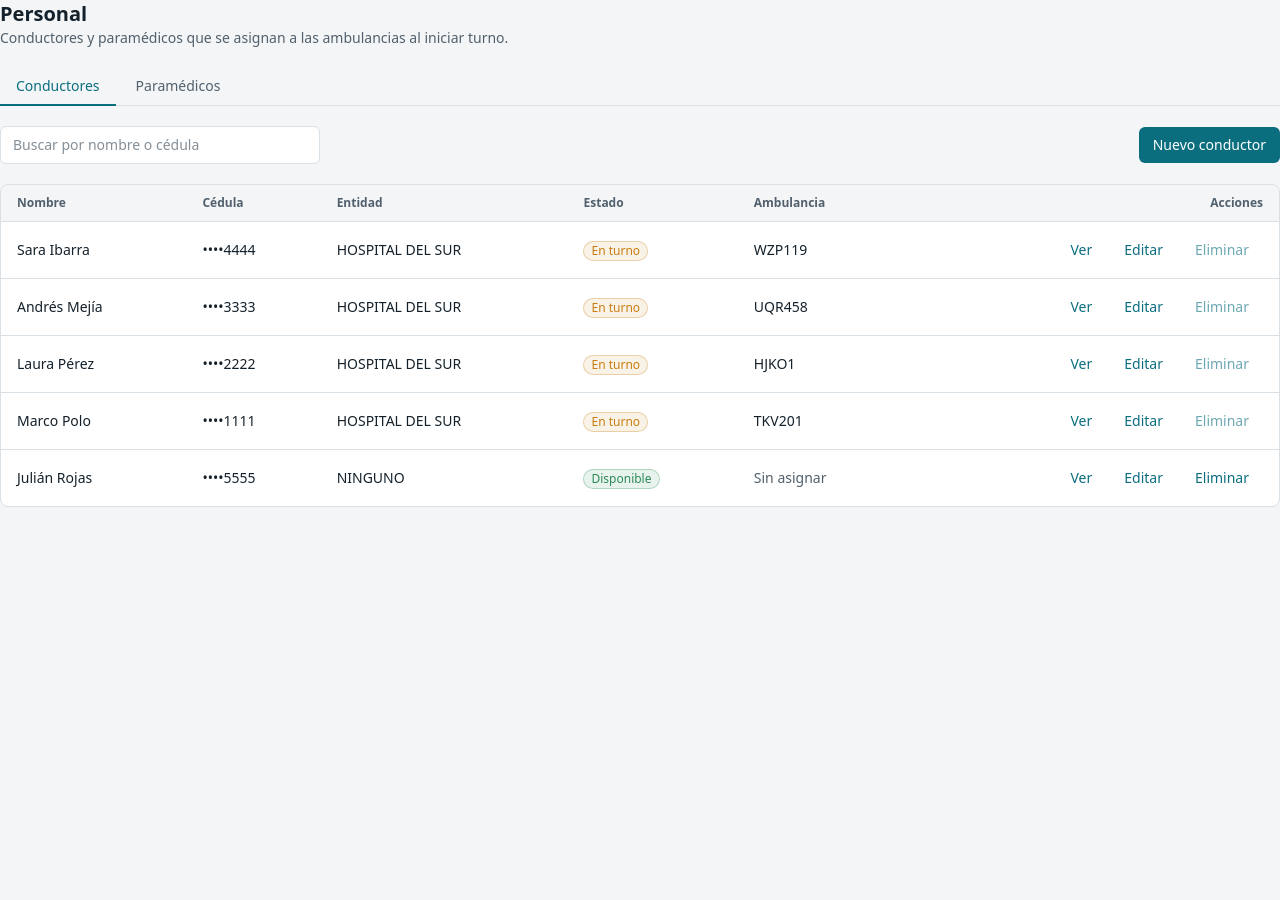
Scenario: StaffPage · conductores › editar no cambia el estado ni la ambulancia
This screenshot has width=1280, height=900.
Click the button with aria-label "Editar Marco Polo".
click(1144, 421)  # box [1110,403,1177,439]
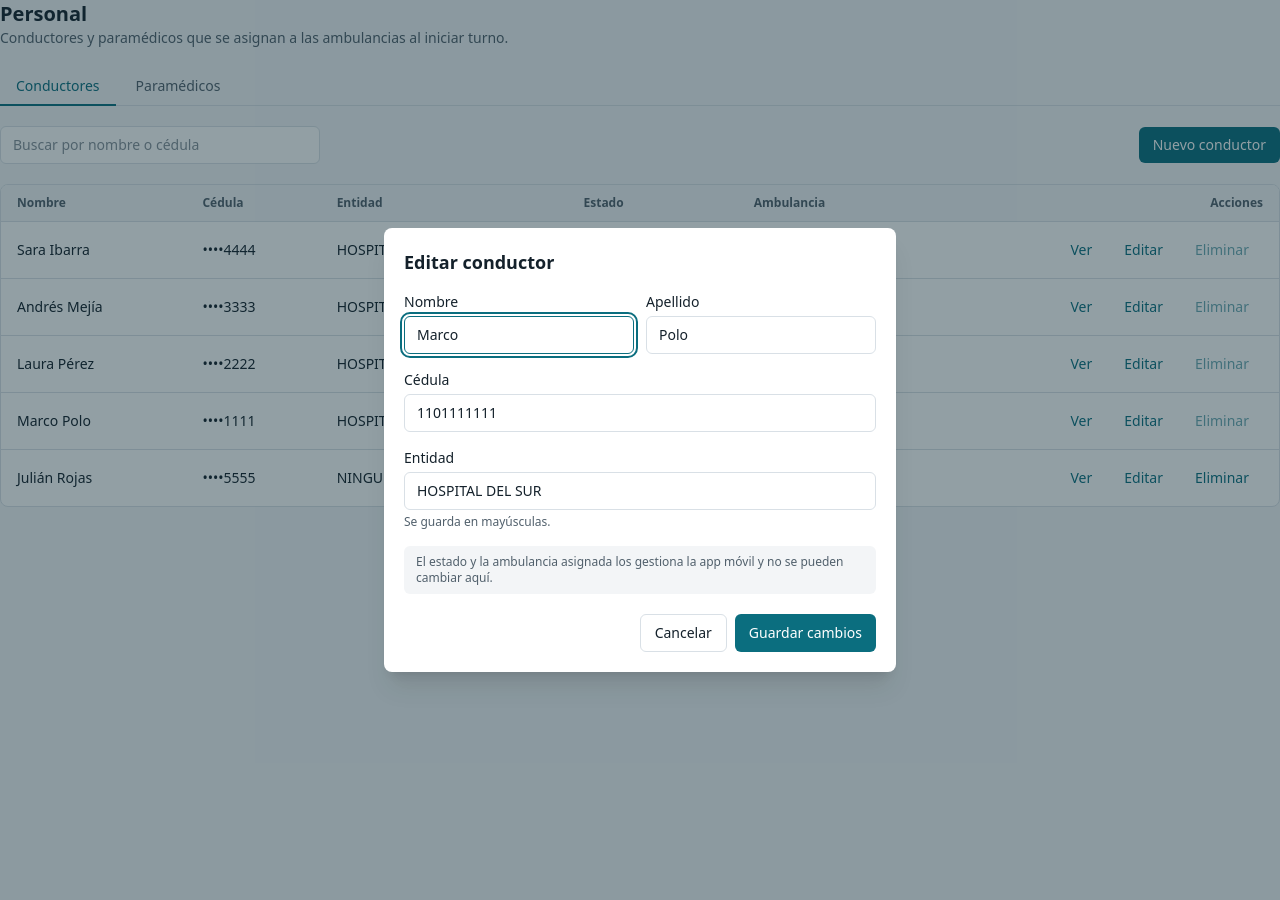
Result: the text "los gestiona la app móvil" is shown at [416,553,844,586]
Result: the field labelled "Nombre" holds "Marco"
Replace the text in the field labelled "Nombre" with "Marcos" at {"x": 519, "y": 335}, box [404,316,634,354]
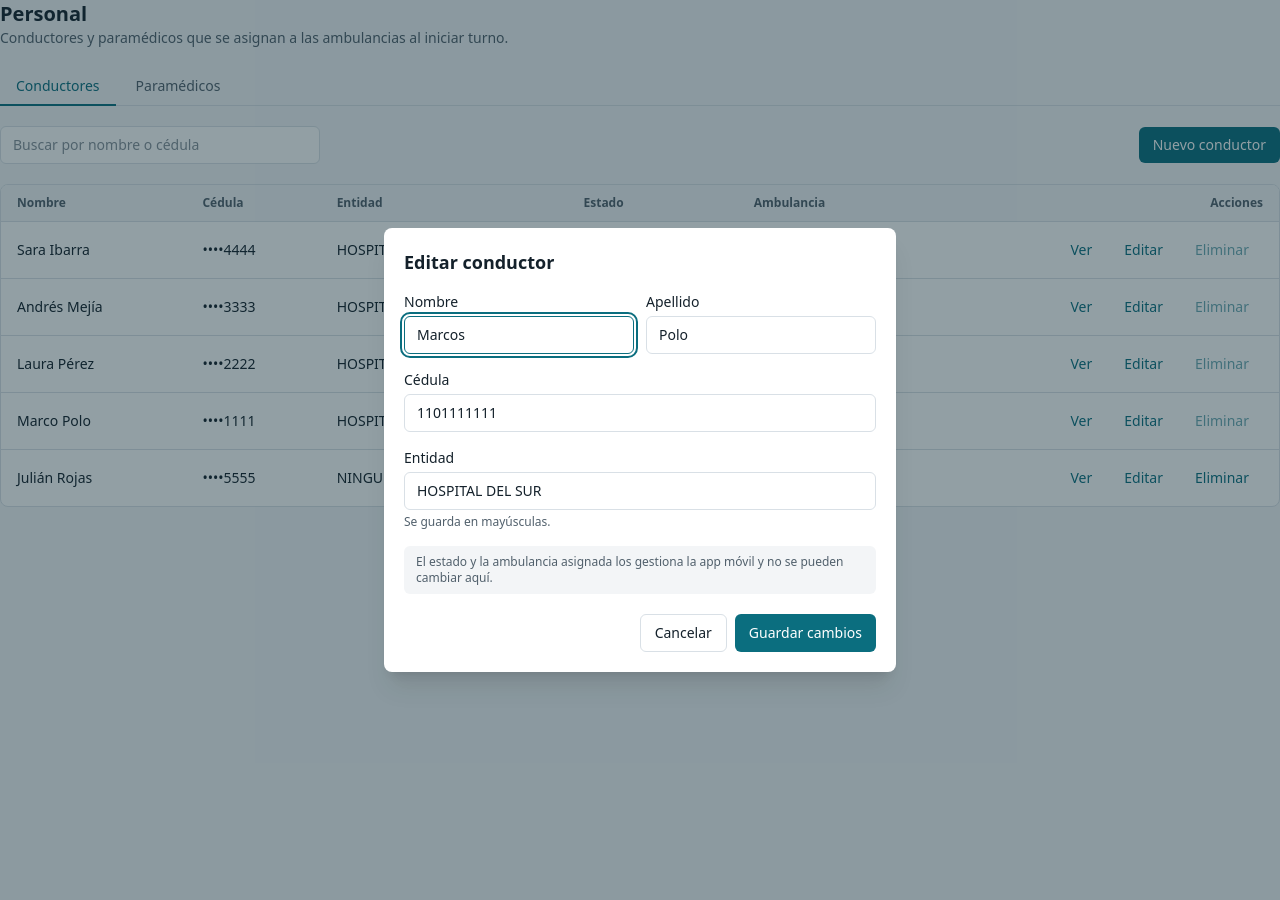
Click the button "Guardar cambios".
click(805, 633)  # box [735,614,876,652]
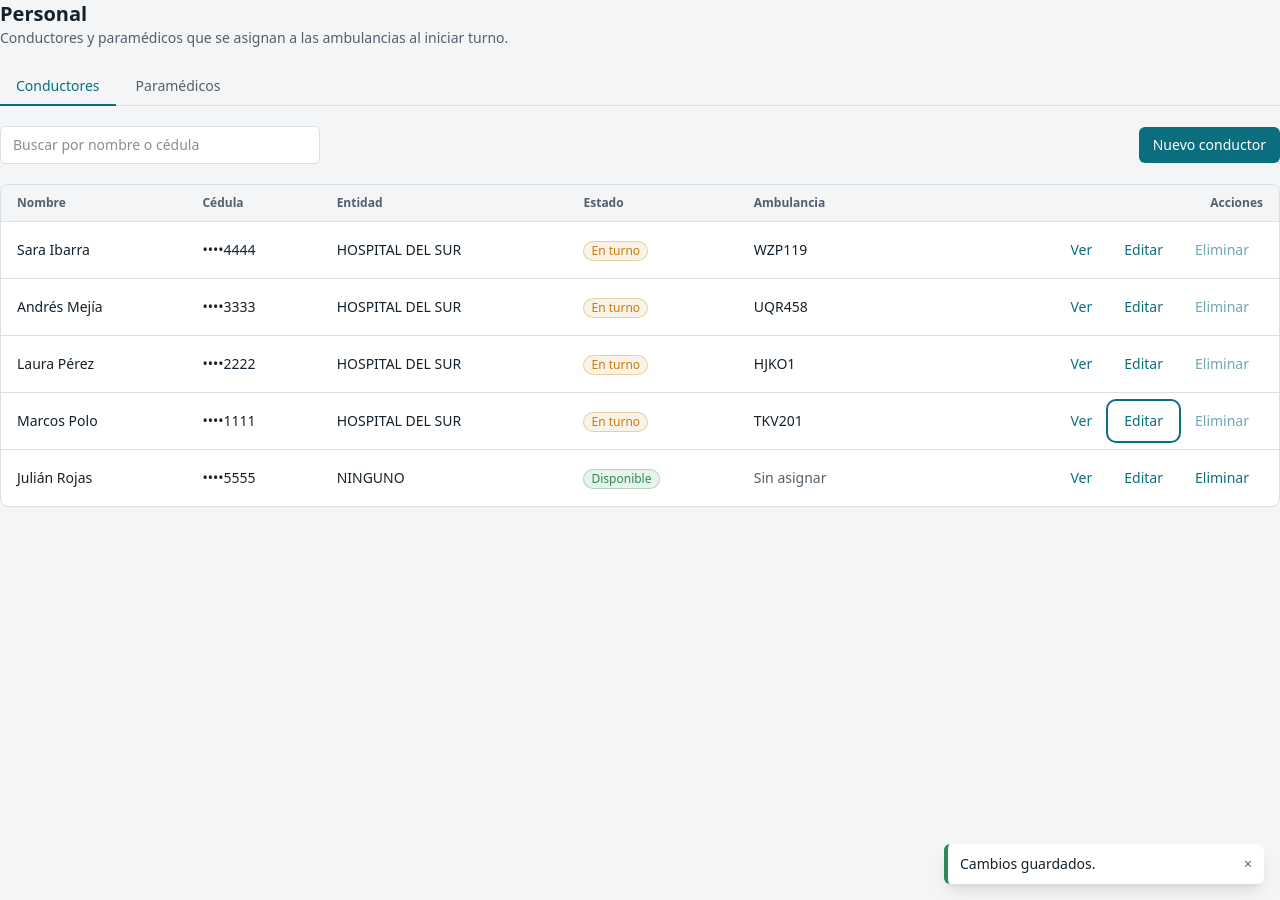
Expected: the text "En turno" in the row of "Marcos Polo" is shown, [592,412,640,430]
Result: the text "Cambios guardados." is shown at [960,854,1096,874]
